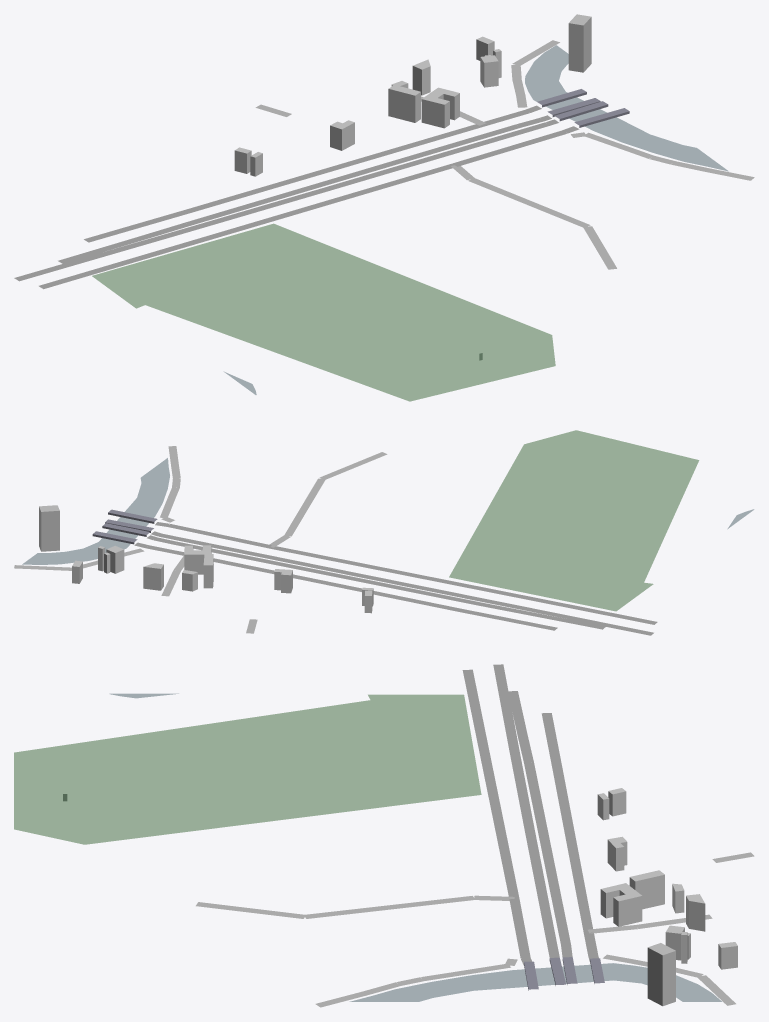
The picture shows the model from 3 angles, top to bottom: view 1: azimuth 30°, elevation 25°; view 2: azimuth 150°, elevation 25°; view 3: azimuth 270°, elevation 25°; orthographic projection. The views are drawn at different scales.
Size of the model in its own units: 561 by 39.9 by 508.
